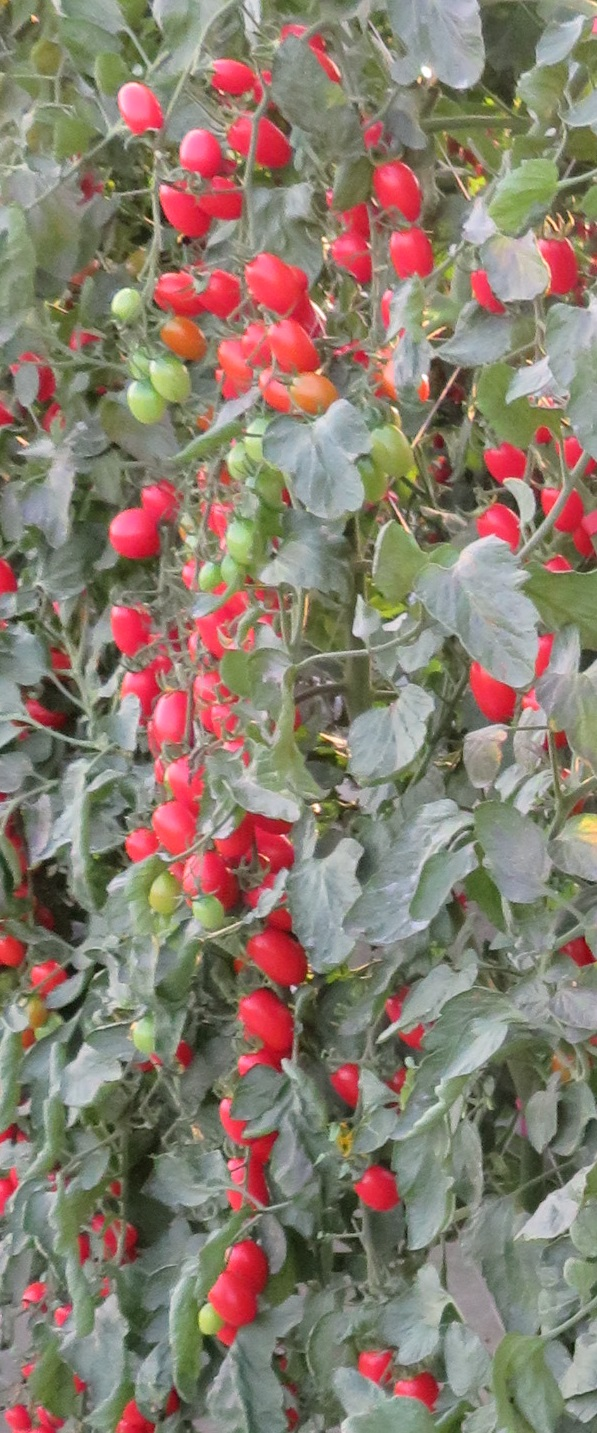green: (145, 866, 183, 921), (372, 428, 410, 478), (149, 358, 190, 403), (241, 413, 274, 467), (109, 283, 149, 326), (125, 381, 160, 429), (186, 890, 226, 930), (227, 440, 258, 480), (225, 516, 253, 558), (130, 1014, 157, 1053), (192, 1307, 224, 1337)
orange: (155, 317, 211, 358), (284, 372, 334, 414)
red: (224, 110, 297, 167), (524, 228, 580, 302), (465, 653, 518, 729), (245, 928, 310, 987), (234, 990, 297, 1049), (239, 250, 299, 309), (372, 157, 422, 226), (115, 79, 164, 147), (265, 316, 322, 369), (385, 222, 433, 282), (104, 507, 160, 558), (207, 1273, 261, 1322), (149, 800, 198, 853), (389, 1370, 443, 1417), (353, 1162, 399, 1216), (540, 483, 586, 535), (331, 231, 372, 287), (201, 58, 261, 95), (177, 131, 222, 178), (107, 603, 151, 651), (352, 1346, 398, 1389), (481, 440, 528, 482), (153, 687, 186, 743), (476, 502, 518, 545), (186, 852, 230, 893), (25, 956, 67, 995), (145, 481, 177, 517)
